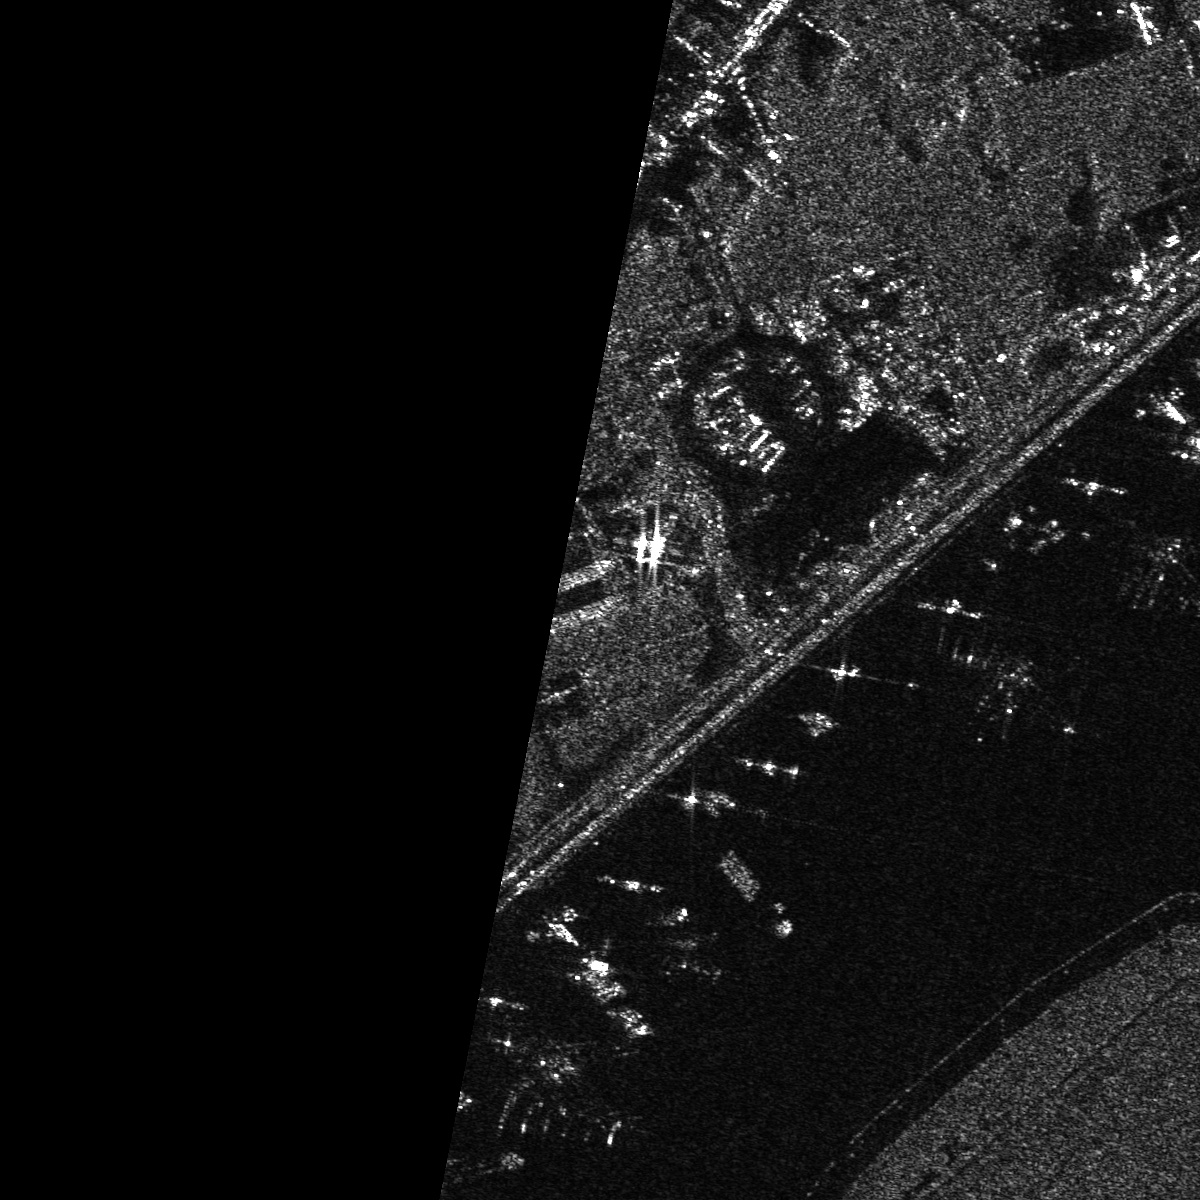Boeing737: (1118, 524, 1199, 621)
Boeing787: (487, 1016, 646, 1155)
other: (963, 627, 1074, 749), (647, 897, 734, 986)
